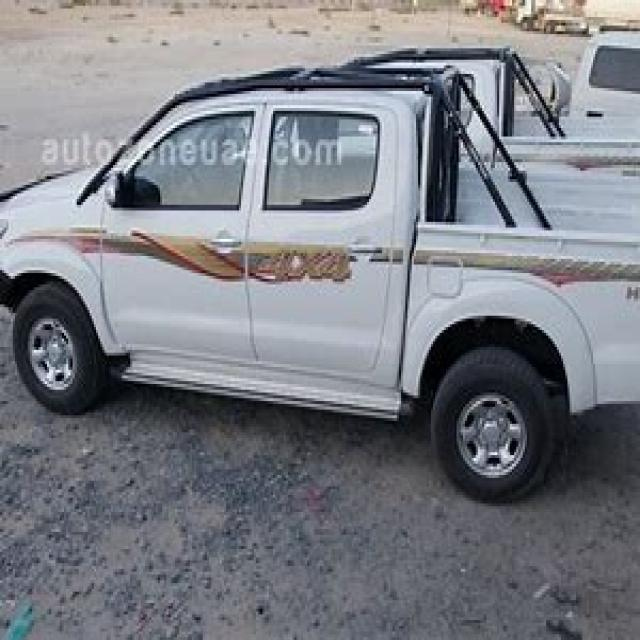light_vehicle: (0, 46, 638, 512)
